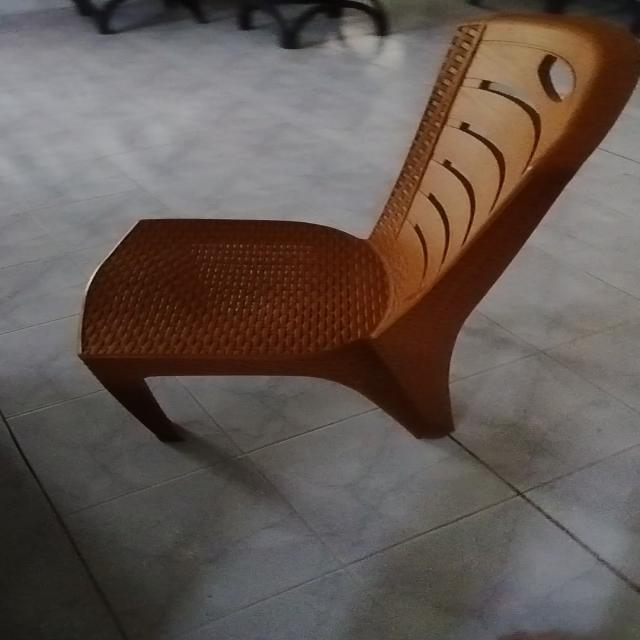chair: (51, 5, 640, 479)
